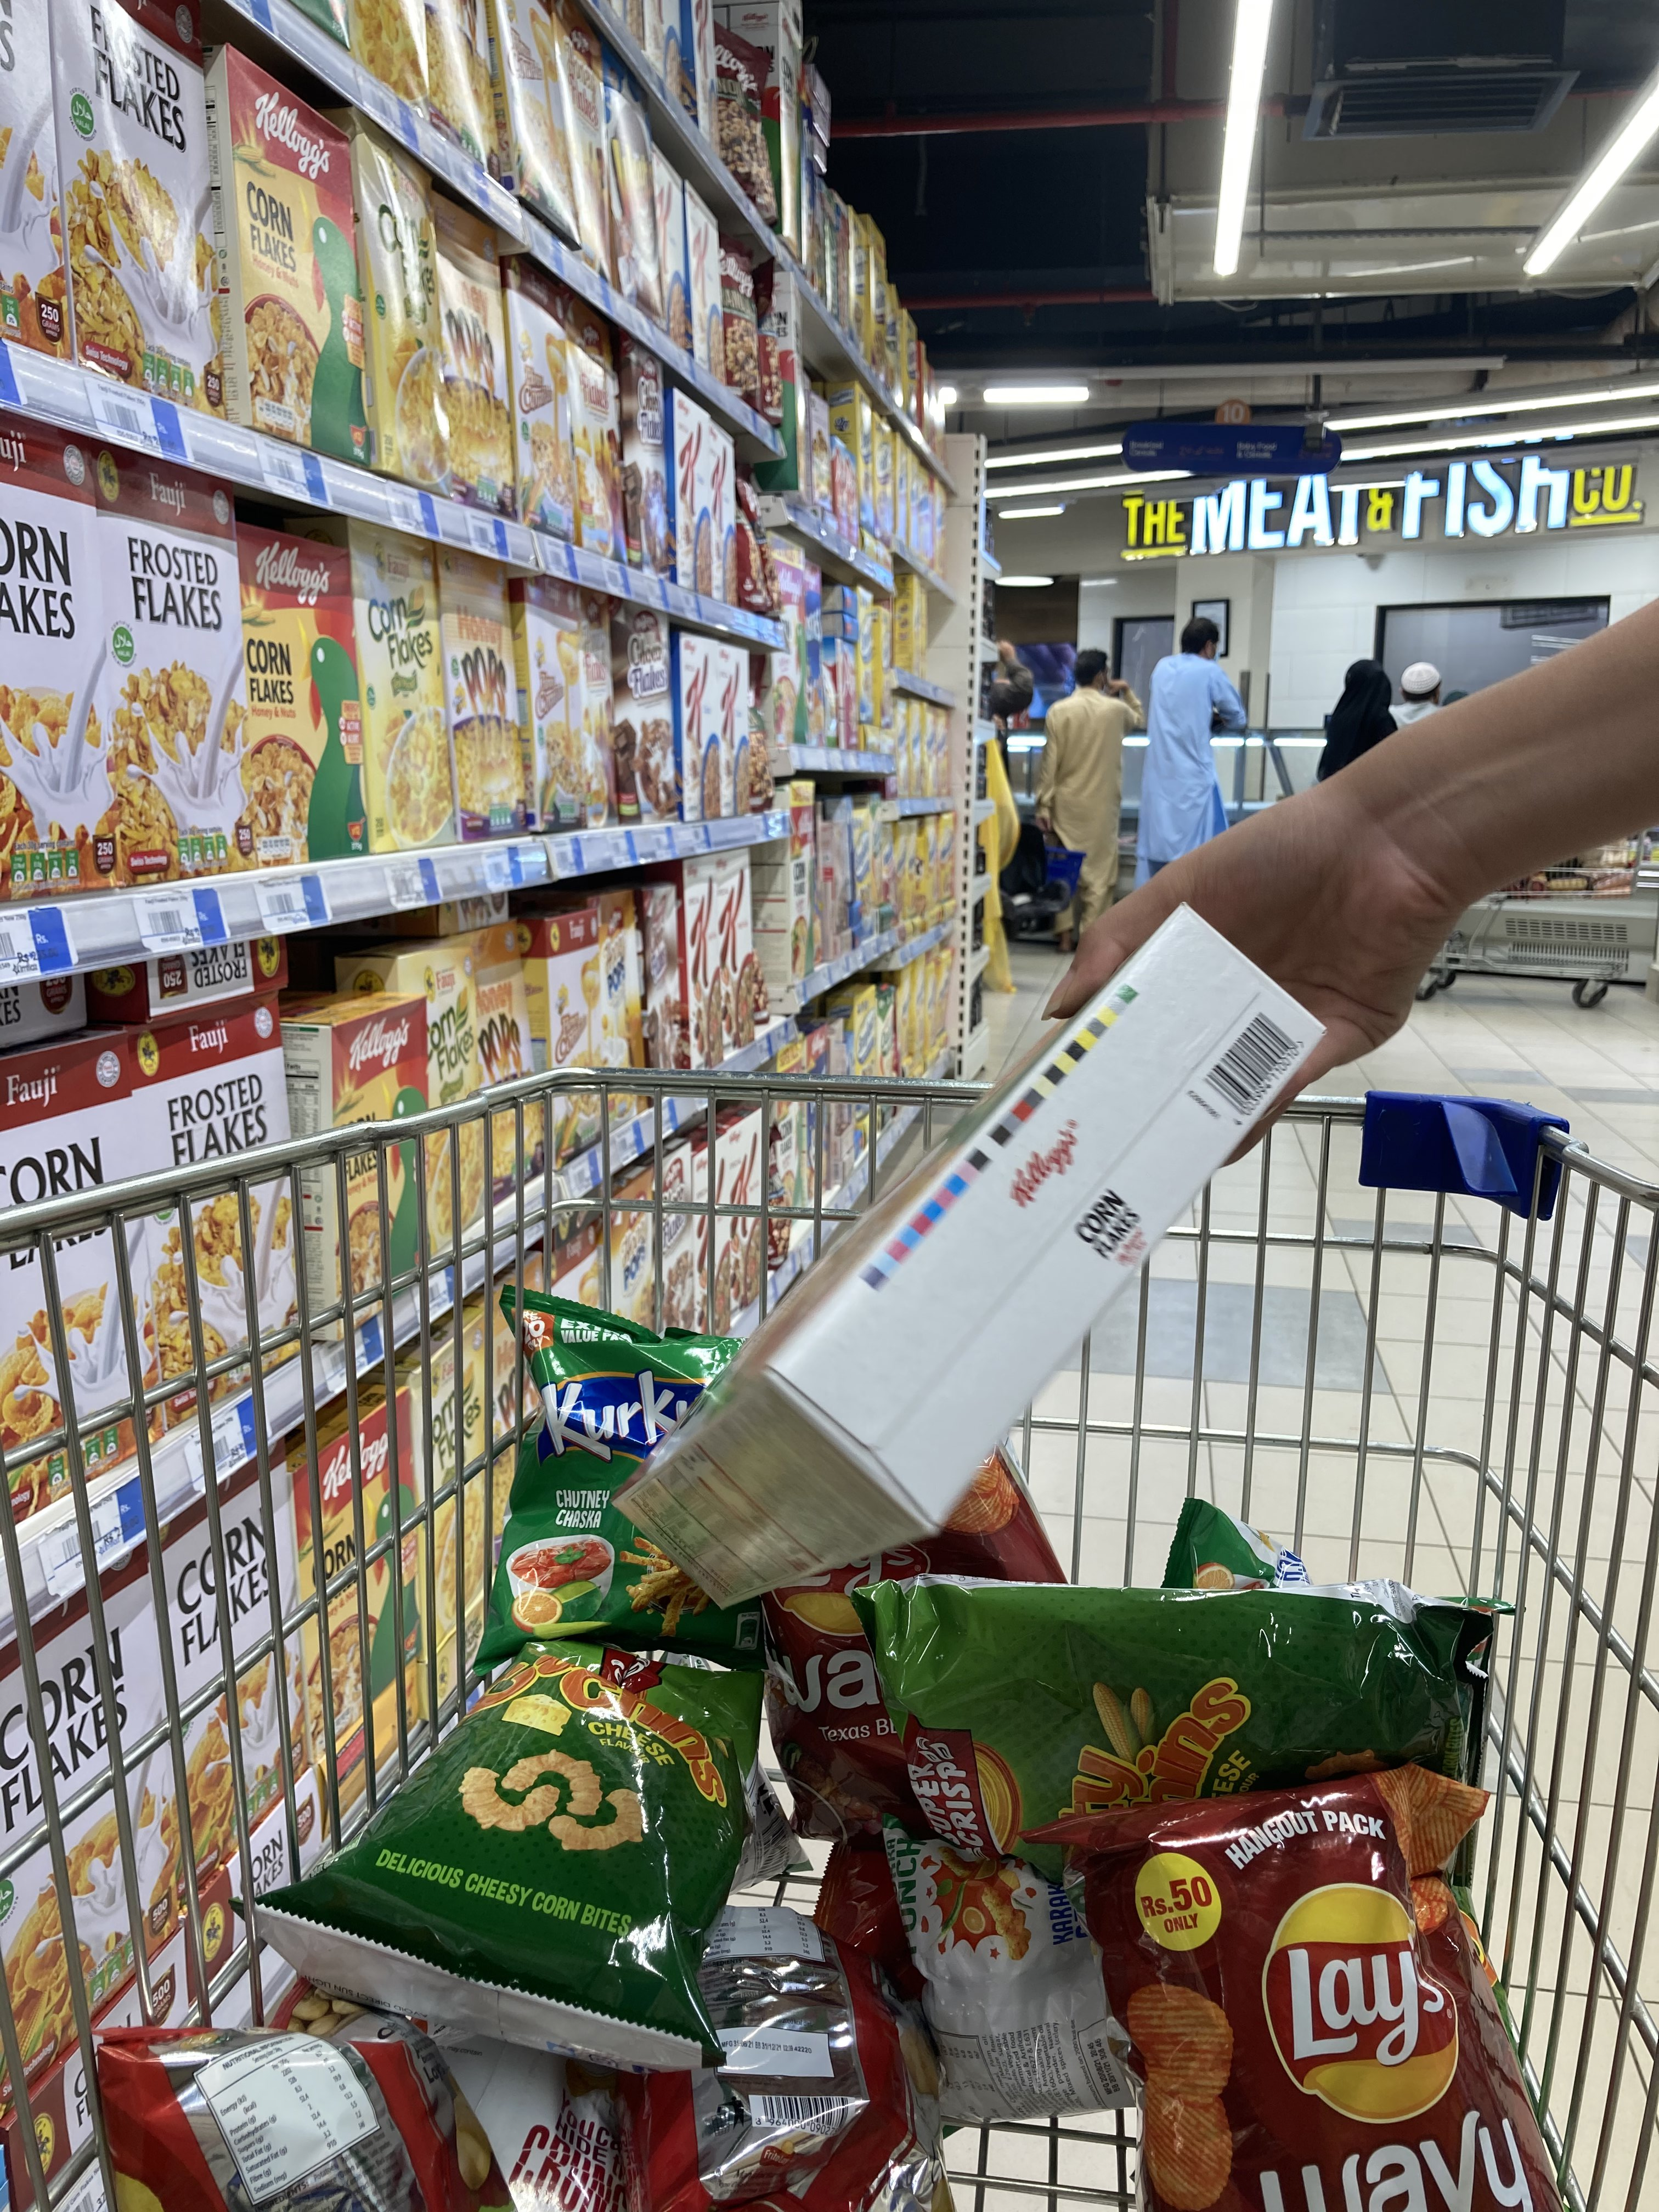Kellogg's Corn Flakes: (612, 894, 1328, 1592)
